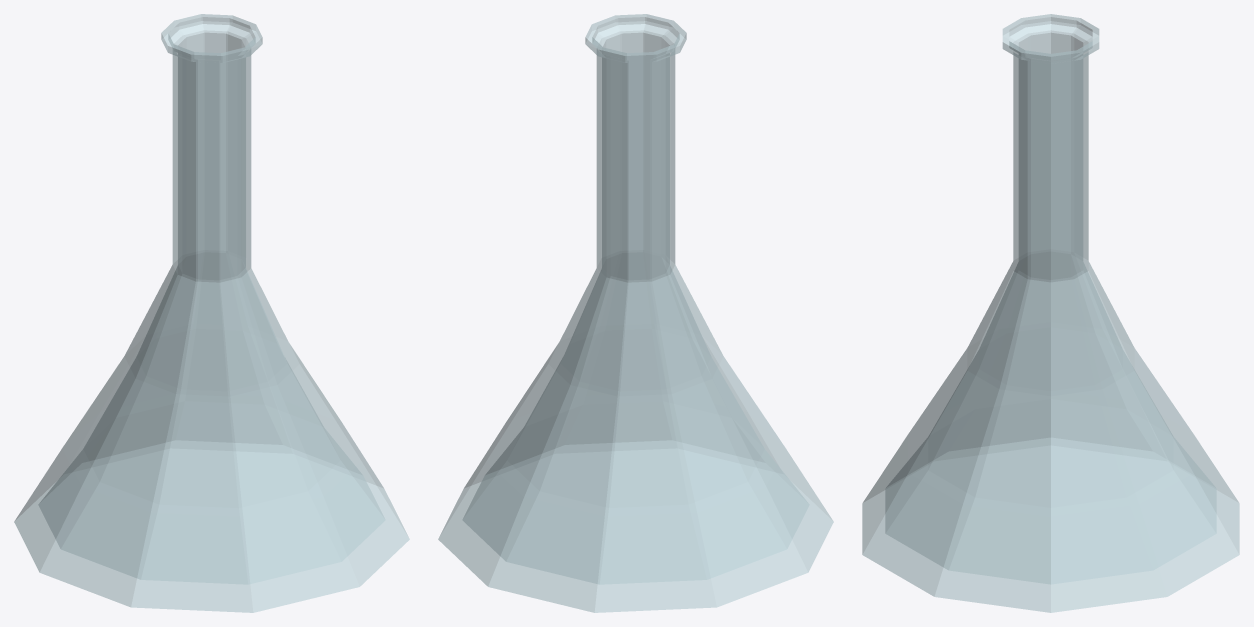
File: tripot.fbx
3 renders of one model, left to right at view 1: azimuth 30°, elevation 25°; view 2: azimuth 150°, elevation 25°; view 3: azimuth 270°, elevation 25°, orthographic.
Parts seen in each view (by area): view 1: cyl3; view 2: cyl3; view 3: cyl3.
Boxes of the visible parts, x1,y1,x2,y2 form: cyl3: (14, 14, 409, 612); cyl3: (438, 14, 833, 612); cyl3: (862, 14, 1239, 612).
Bounding box in the file's own units: 0.8064 × 1.11 × 0.767.
